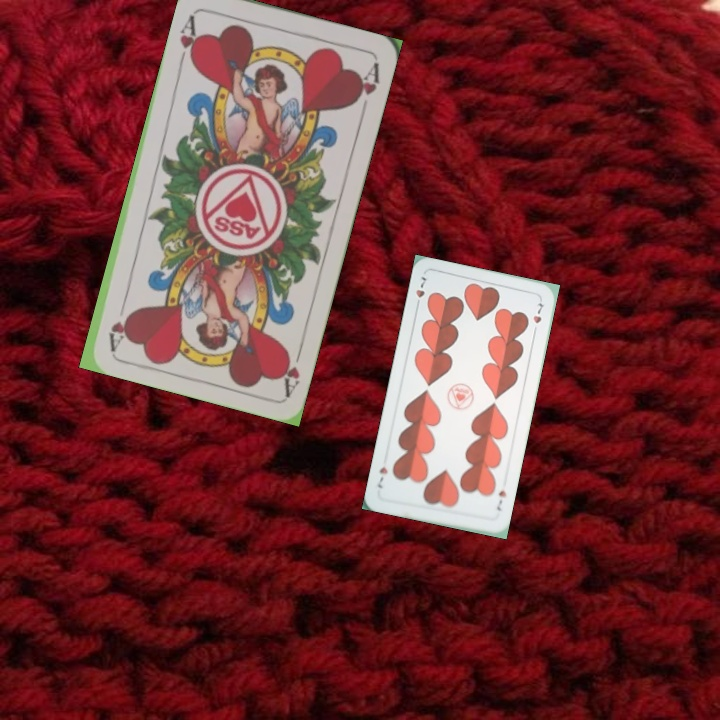H7: (411, 272, 429, 311), (493, 486, 508, 513)
HA: (275, 339, 306, 397), (175, 11, 203, 68)
